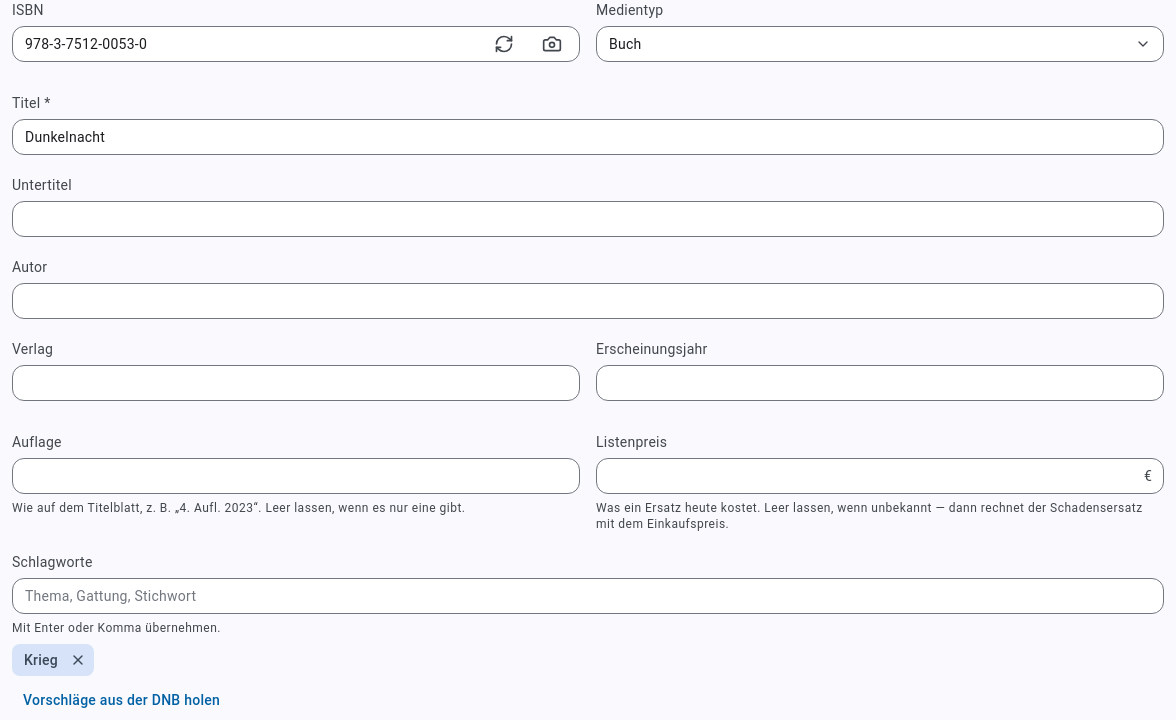
it: BuchEingabefelder: Schlagworte aus der DNB › fragt bei einem vorhandenen Titel erst auf Knopfdruck und nur nach dem, was fehlt
What coordinates should you click on to do the following:
click the button "Vorschläge aus der DNB holen"
I would click on:
 (122, 700)
Its box is [12,684,231,716].
(page scrolled)
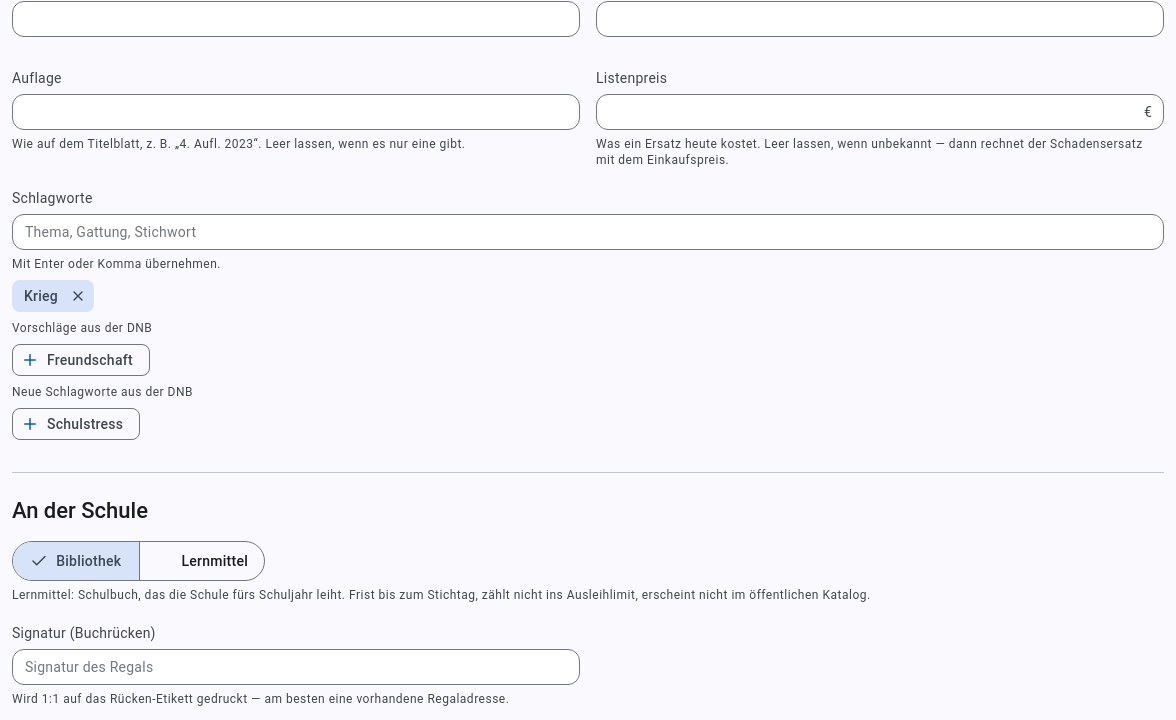
Check: the element "Vorschläge aus der DNB" does not show "Krieg"
Check: the element named "Vorschläge aus der DNB" reads "Freundschaft", box [12,344,150,376]
